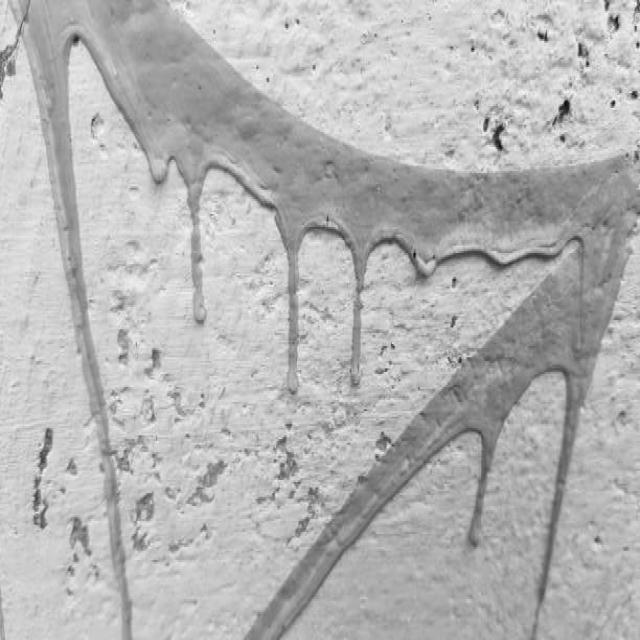paint drips: (207, 143, 640, 417), (72, 18, 207, 338), (468, 340, 600, 640)
